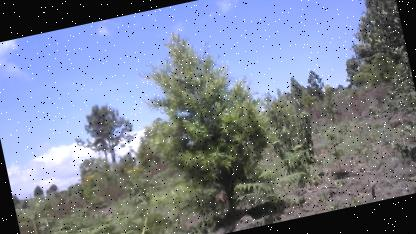tree: (128, 8, 289, 233), (65, 92, 146, 186)
